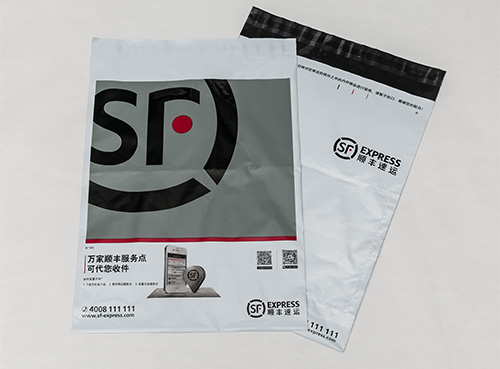Parcel: (76, 7, 444, 350)
